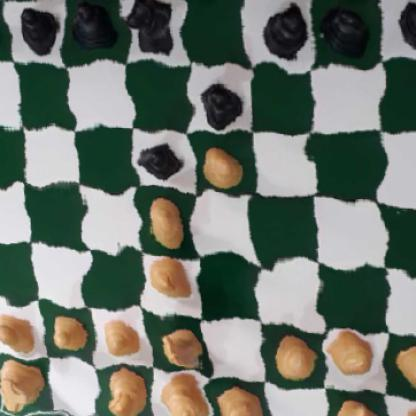black-knight: (121, 0, 177, 58)
black-pawn: (319, 0, 369, 58), (257, 3, 307, 60), (68, 1, 119, 53), (12, 4, 61, 57), (197, 79, 245, 127), (135, 139, 180, 183), (394, 0, 416, 54), (0, 3, 1, 47)
white-bishop: (144, 252, 194, 306), (99, 364, 150, 416)
white-king: (217, 381, 263, 416)
white-knight: (154, 323, 206, 373), (333, 393, 381, 416)
white-pawn: (269, 333, 322, 382), (144, 194, 191, 245), (97, 312, 142, 364), (329, 330, 373, 378), (0, 306, 43, 351), (199, 144, 244, 186), (45, 311, 87, 355), (398, 337, 416, 389)
white-queen: (161, 370, 209, 416)
white-rook: (0, 355, 51, 416), (399, 401, 416, 416)
